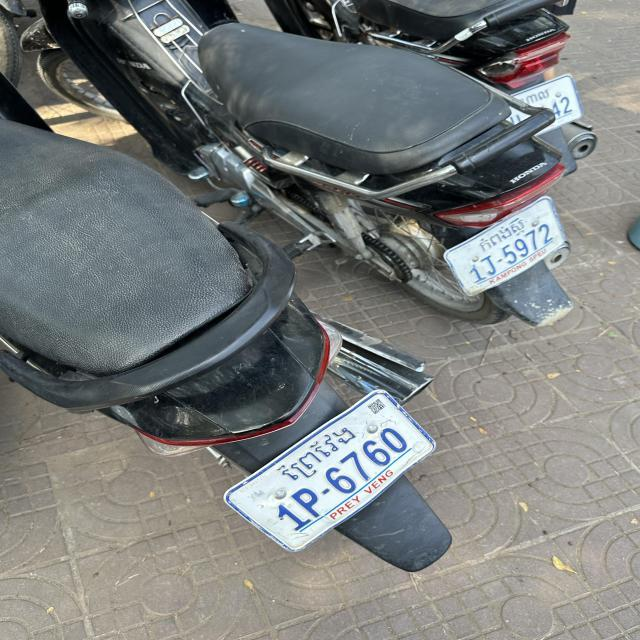Kampong_Speu: (477, 215, 526, 252)
Prey_Veng: (276, 422, 357, 480)
